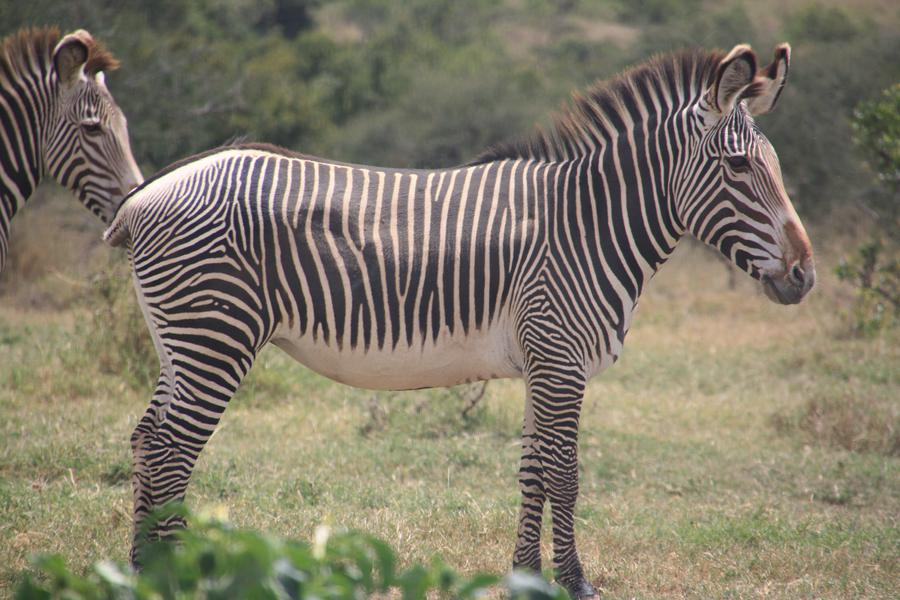zebra_grevys: (112, 139, 613, 378)
